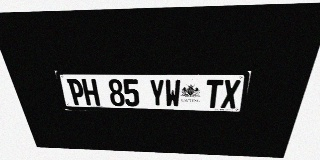5: (123, 79, 140, 106)
8: (107, 79, 125, 106)
H: (81, 79, 100, 106)
P: (66, 79, 86, 105)
T: (205, 80, 223, 108)
W: (165, 79, 181, 107)
X: (220, 80, 241, 108)
Y: (149, 79, 165, 107)
